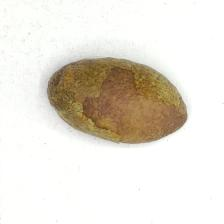NG: (47, 59, 119, 143), (120, 58, 188, 109)
